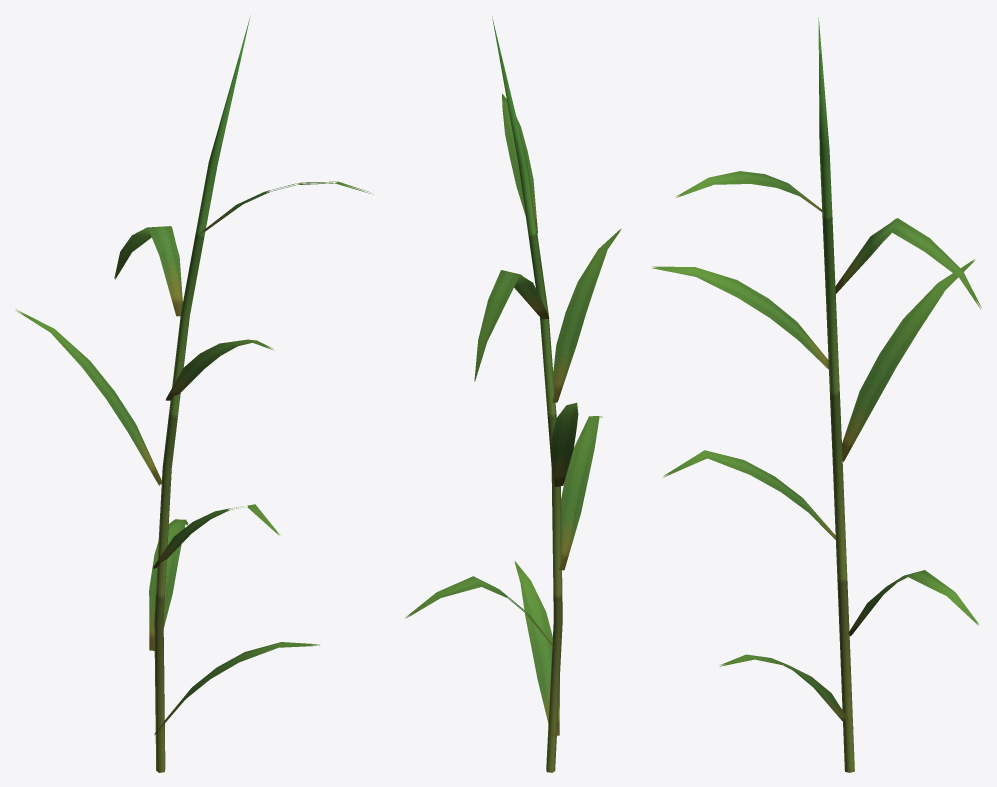
The model's file is reed02.FBX.
The picture shows the model from 3 angles, left to right: view 1: azimuth 30°, elevation 25°; view 2: azimuth 150°, elevation 25°; view 3: azimuth 270°, elevation 25°; orthographic projection. The views are drawn at different scales.
Parts seen in each view (by area): view 1: reed02; view 2: reed02; view 3: reed02.
Part boxes in pixels (x1,y1,x2,y2): reed02: [16, 17, 371, 772]; reed02: [405, 16, 621, 772]; reed02: [651, 17, 981, 772].
Bounding box in the file's own units: 35.79 × 117 × 44.19.
1 material, 1 textured.
